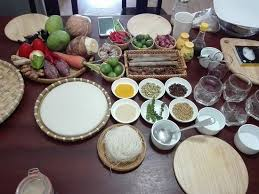Carrots: (56, 53, 105, 71)
